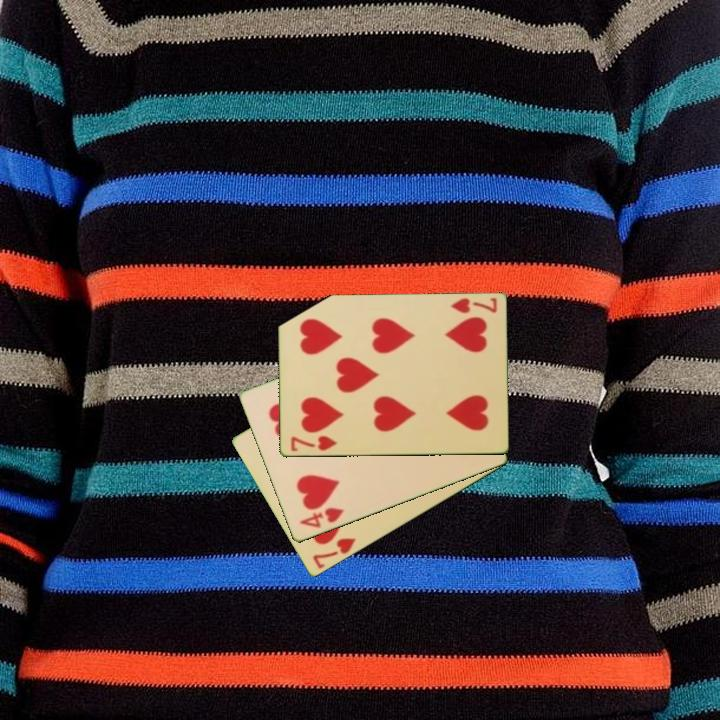4h: (296, 504, 347, 531)
7h: (309, 534, 359, 572), (287, 433, 340, 455), (447, 295, 499, 317)
